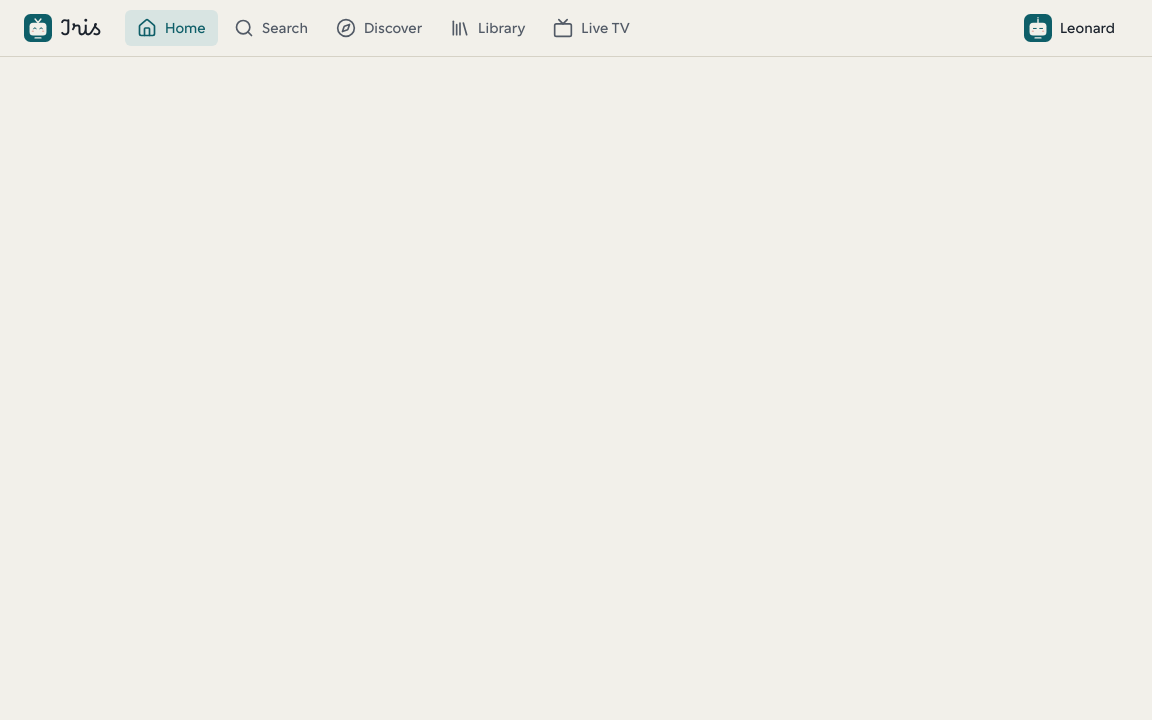
Test: Header › opens the account panel from the name; admin only for admins
Click the button with aria-label "Leonard: account, theme, sign out" at (1070, 28), box [1011,10,1128,46]
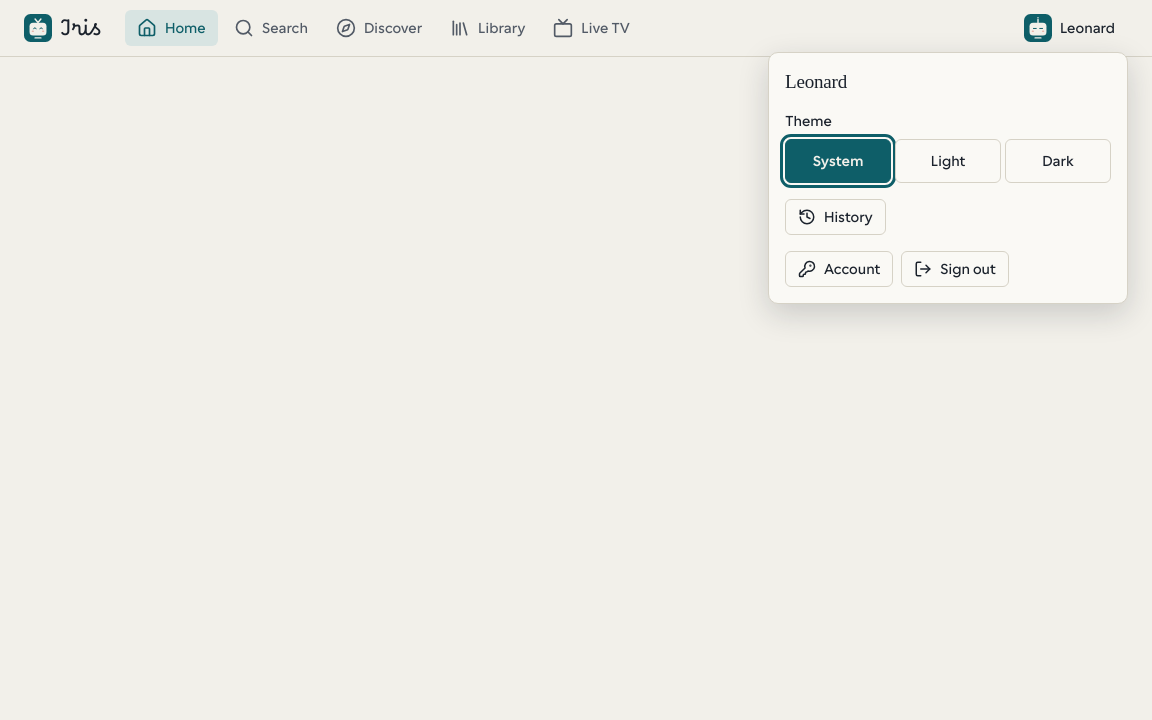
Expected: the element named "Theme" is shown, [785,139,1111,183]
Expected: the link "History" is shown, [785,199,886,235]
